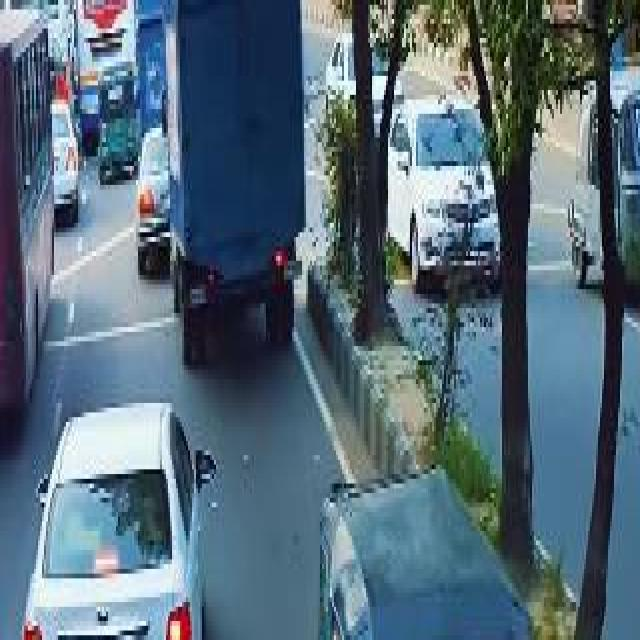bus: (0, 10, 54, 436)
car: (310, 445, 566, 640), (22, 393, 210, 640), (379, 86, 508, 308), (131, 112, 182, 278), (48, 93, 82, 226)
van: (160, 0, 308, 366)
